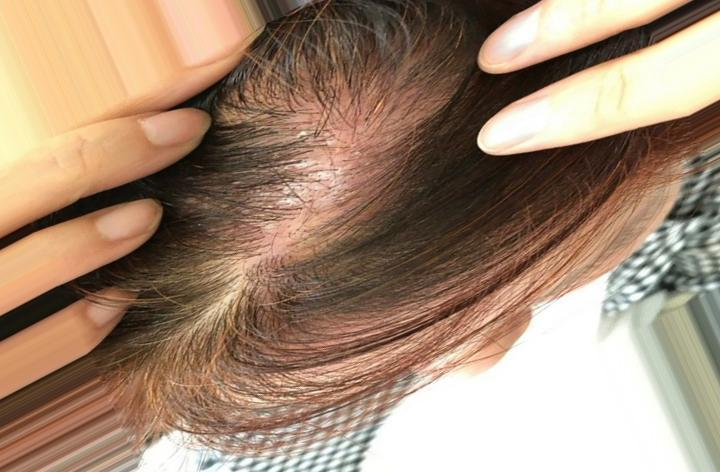Contact Dermatitis: (238, 51, 437, 263)
